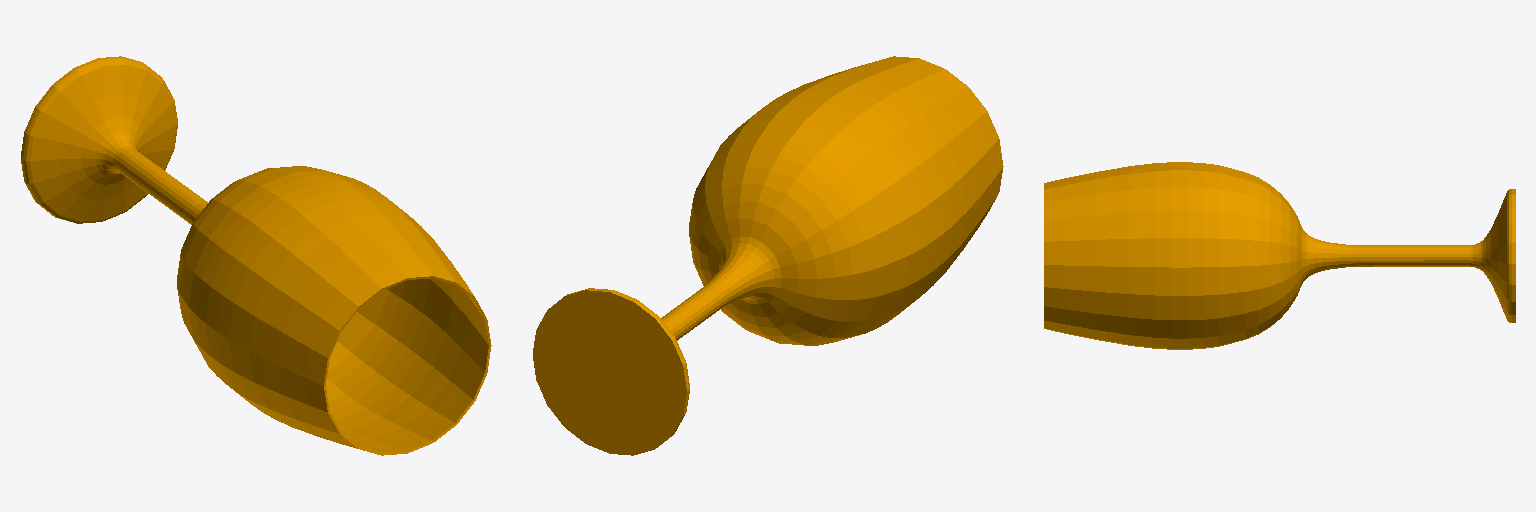
URDF robot description (mesh_object):
<robot name="mesh_object">
            <link name="base">
                <visual>
                    <geometry>
                        <mesh filename="flute_glass_2.obj" scale="1 1 1" />
                    </geometry>
                </visual>
                <collision>
                    <geometry>
                        <mesh filename="flute_glass_2.obj" scale="1 1 1" />
                    </geometry>
                </collision>
                <inertial>
                    <origin xyz="0.000000 0.000000 0.044858" rpy="0 0 0" />
                    <mass value="0.5" />
                    <inertia ixx="0.01" iyy="0.01" izz="0.01" ixy="0" ixz="0" iyz="0" />
                </inertial>
            </link>
            </robot>

--- Render facts (derived) ---
3 views of the same robot in one strip: view 1: azimuth 30°, elevation 25°; view 2: azimuth 150°, elevation 25°; view 3: azimuth 270°, elevation 25° (orthographic).
Model mesh_object with 1 links and 0 joints (none), rooted at base, posed all joints at 0.
Links seen in each view (by area): view 1: base; view 2: base; view 3: base.
Boxes of the visible links, x1,y1,x2,y2 form: base: [21, 56, 491, 455]; base: [533, 56, 1003, 455]; base: [1044, 162, 1515, 349].
Size in the robot's own frame: 0.036 by 0.0897 by 0.036 metres.
Meshes: 1 distinct files referenced, 1 mesh visuals loaded (1 OBJ).
